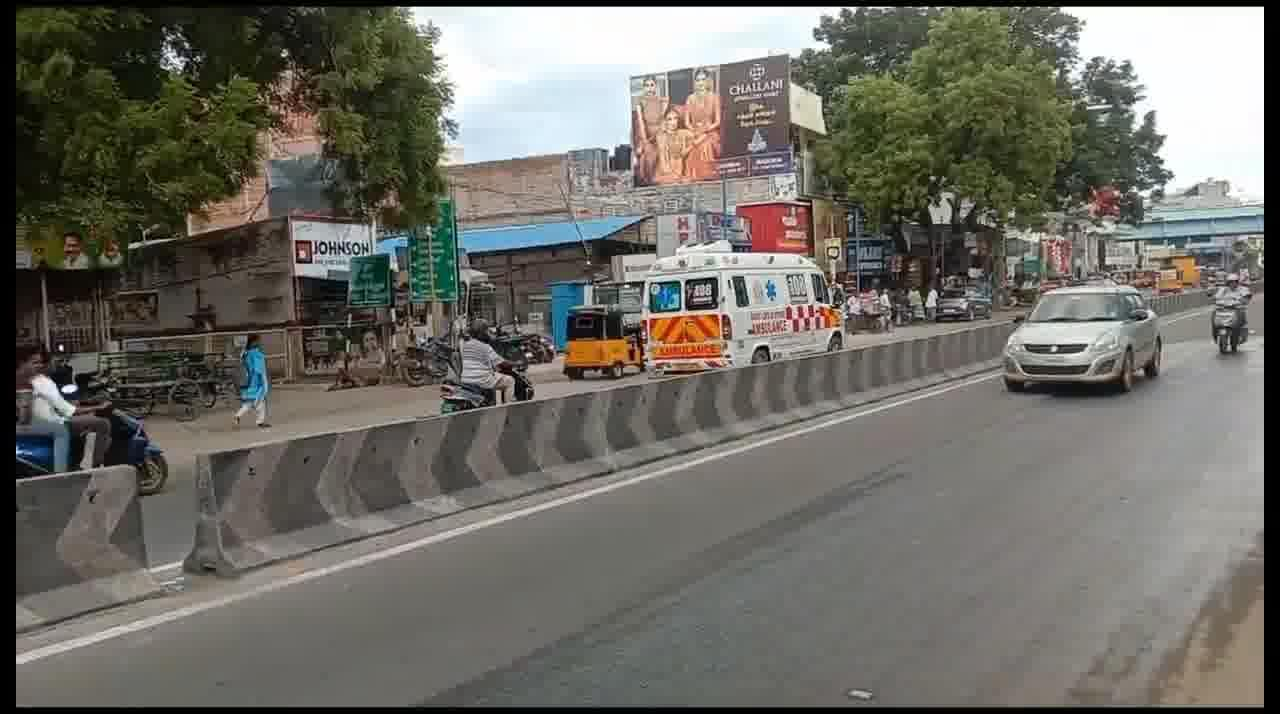AMBULANCE: (636, 228, 849, 387)
